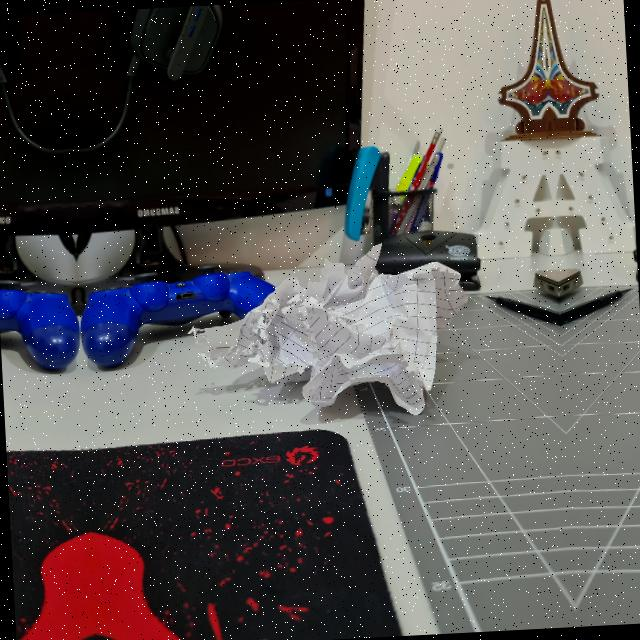paper: (218, 259, 472, 418)
